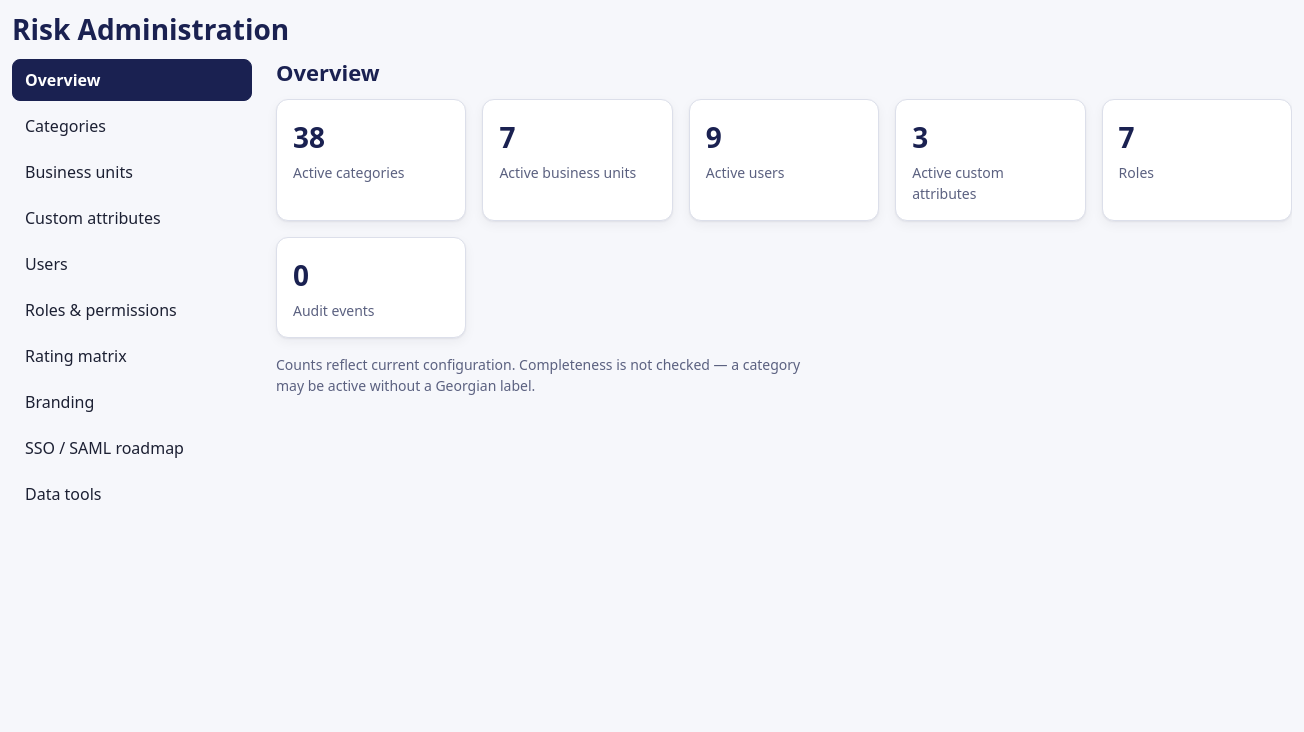
it: business units › collapses and expands a node
Click the button "Business units" at coordinates (132, 172), box left=12, top=151, right=252, bottom=193
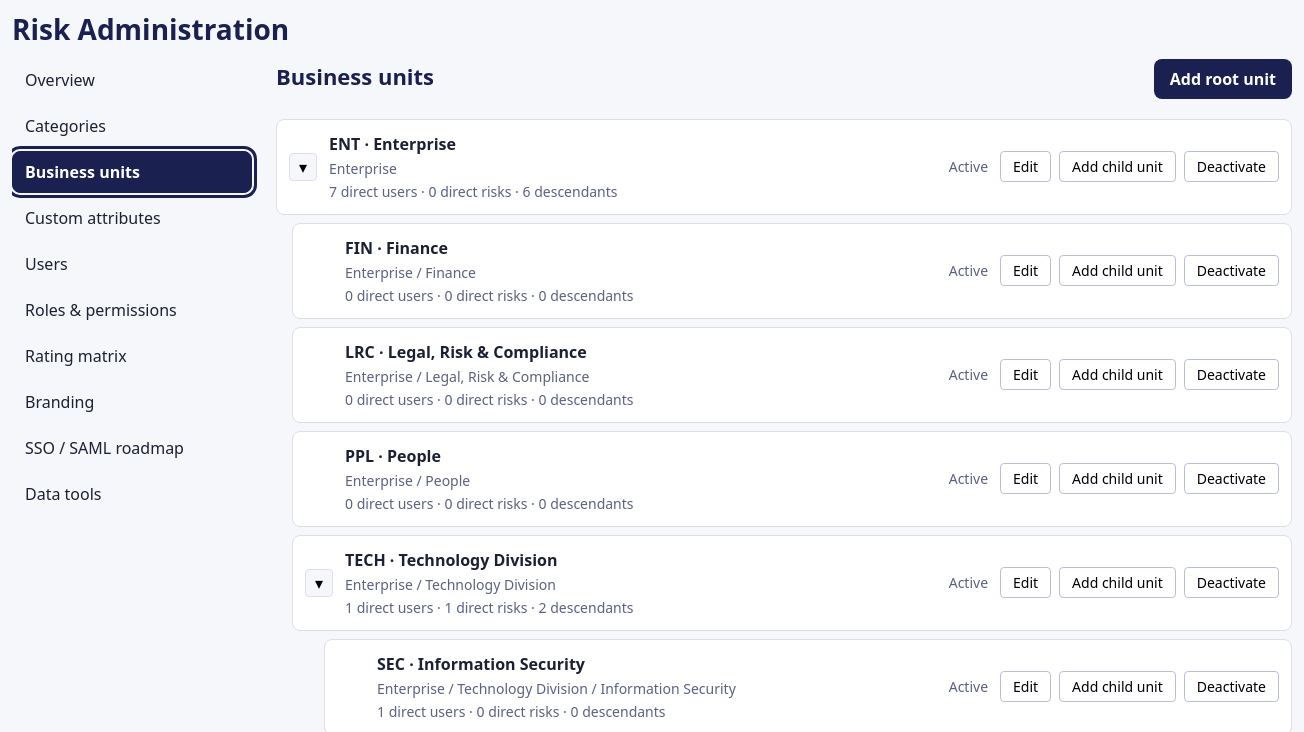
Result: the text "SEC · Information Security" is shown at left=377, top=652, right=585, bottom=674
Click the button named "Collapse Technology Division" at coordinates (319, 582), box left=305, top=568, right=333, bottom=596
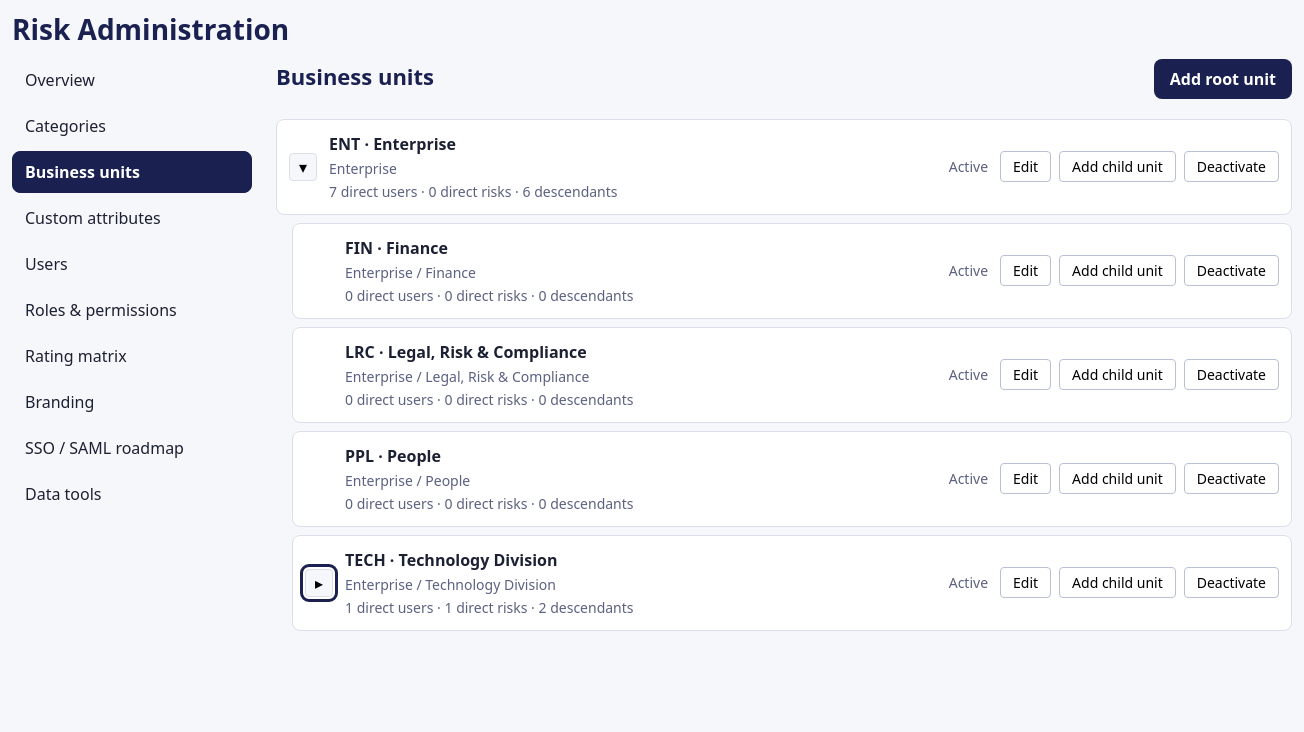
Result: the text "SEC · Information Security" is gone
